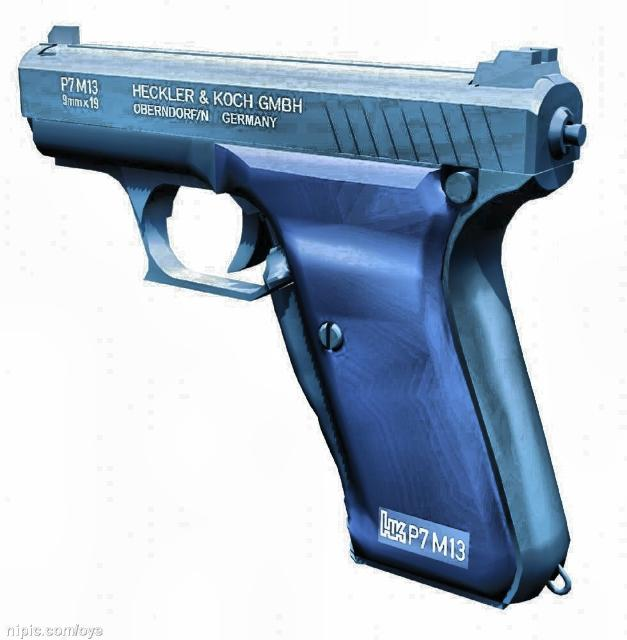pistol: (13, 25, 589, 608)
